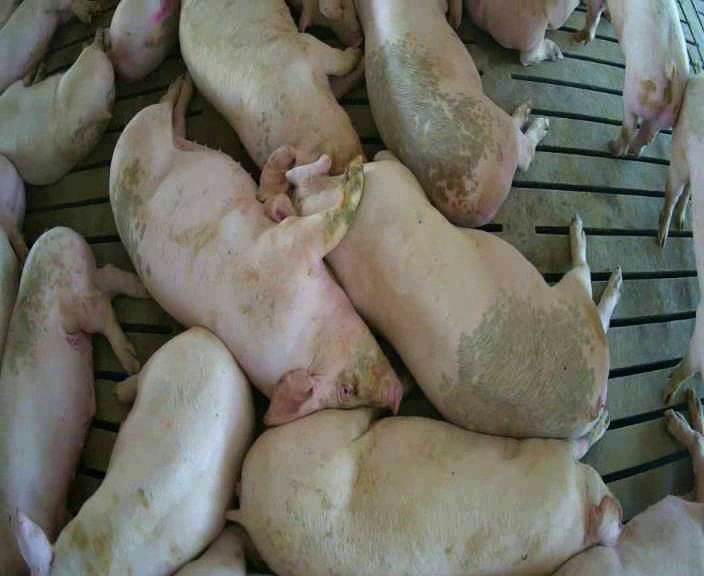pig: (110, 79, 401, 424), (231, 408, 621, 574), (17, 328, 253, 575), (358, 0, 548, 226), (180, 2, 367, 200), (555, 387, 703, 574), (0, 27, 114, 184), (578, 2, 688, 156), (656, 61, 703, 402), (0, 1, 95, 92), (466, 1, 578, 65), (104, 1, 178, 81)
